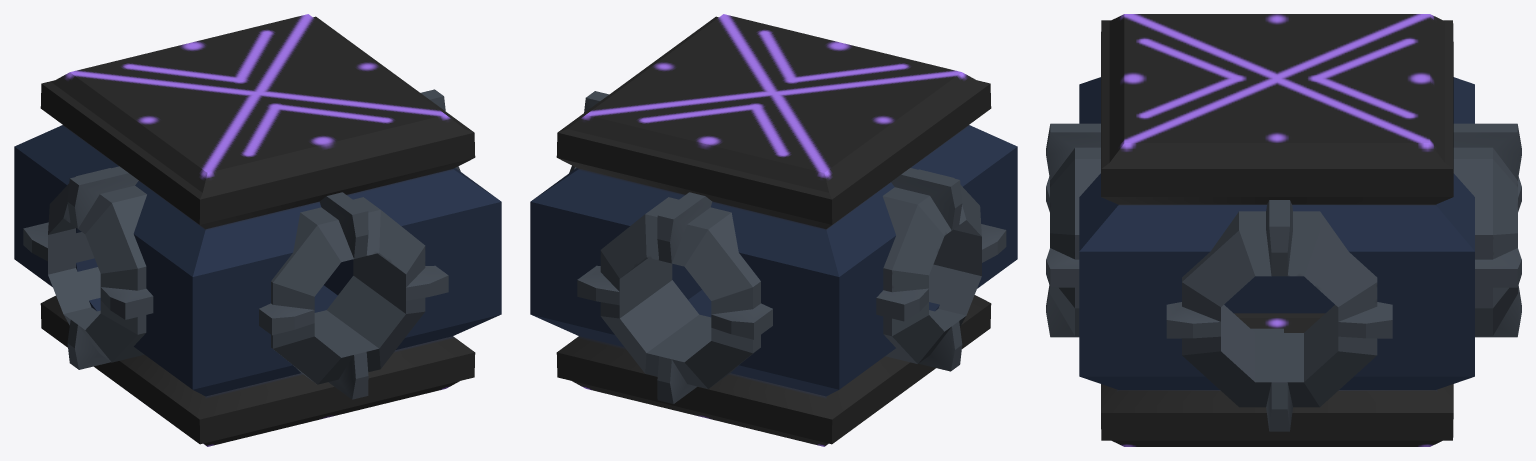
The model's file is Turret4.fbx.
The picture shows the model from 3 angles, left to right: view 1: azimuth 30°, elevation 25°; view 2: azimuth 150°, elevation 25°; view 3: azimuth 270°, elevation 25°; orthographic projection. The views are drawn at different scales.
Visible parts, largest first — view 1: polySurface5; view 2: polySurface5; view 3: polySurface5.
Boxes of the visible parts, bbox=[...] form: polySurface5: bbox=[14, 14, 501, 446]; polySurface5: bbox=[530, 14, 1017, 446]; polySurface5: bbox=[1046, 14, 1521, 446].
Bounding box in the file's own units: 28.38 × 20 × 28.38.
Materials: 1 (1 with a texture image).
